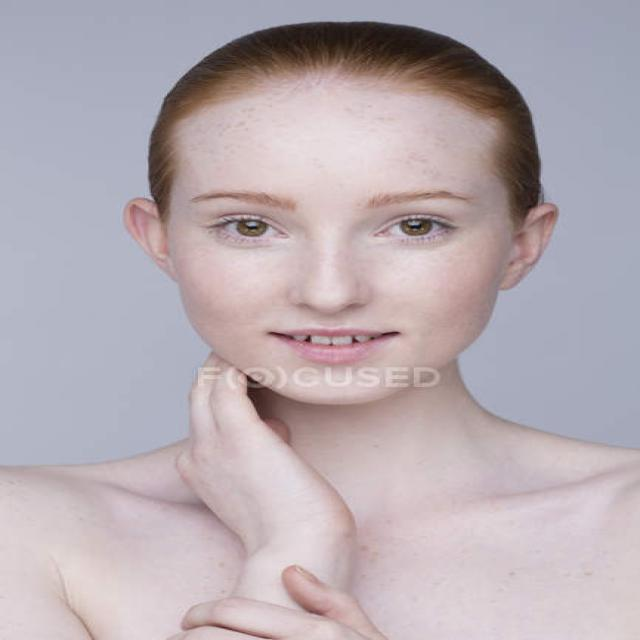mobile_phonerotation: (2, 18, 637, 639)
